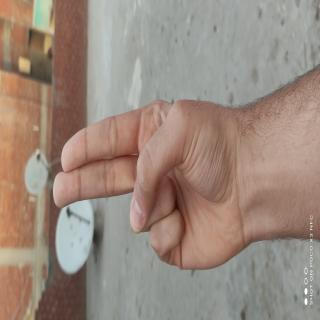TA: (14, 109, 108, 320)
